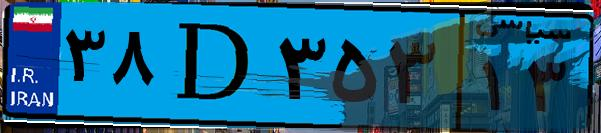1: (475, 38, 525, 113)
3: (270, 28, 330, 110), (385, 28, 445, 110), (57, 26, 110, 100), (525, 38, 570, 115)
5: (330, 28, 385, 110)
8: (110, 28, 158, 98)
D: (158, 12, 270, 120)
